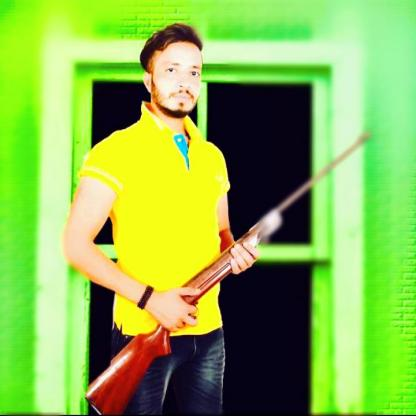rifle: (83, 128, 375, 415)
